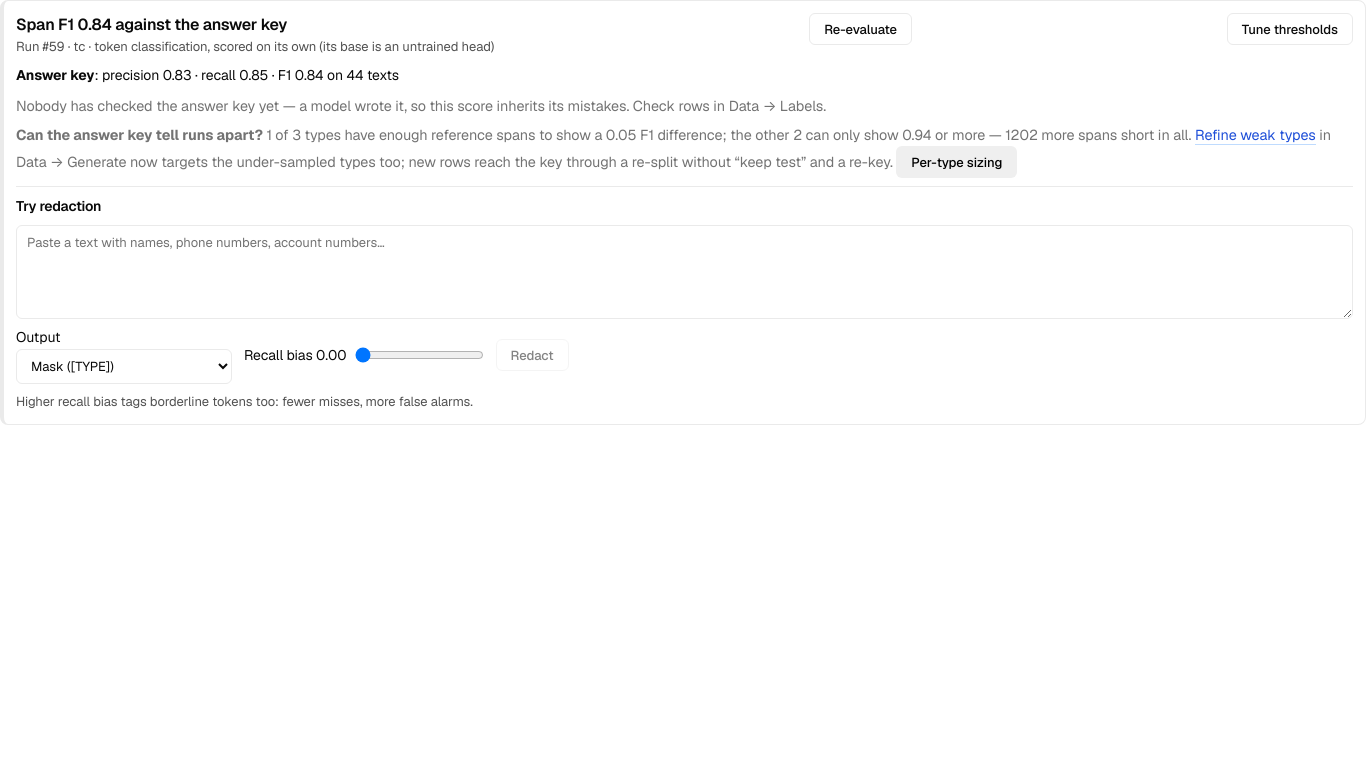
Test: EvalSummaryCard — answer-key sizing › says which types can show a 0.05 difference, with a per-type table and a refine link
The width and height of the screenshot is (1366, 768).
Check: the element with test id "eval-summary-span-sizing" shows "Can the answer key tell runs apart? 1 of 3 types have enough reference spans to show a 0.05 F1 difference; the other 2 can only show 0.94 or more — 1202 more sp", box [16,125,1353,178]
Click the button with test id "eval-summary-sizing-toggle".
click(957, 162)  # box [896,146,1017,178]
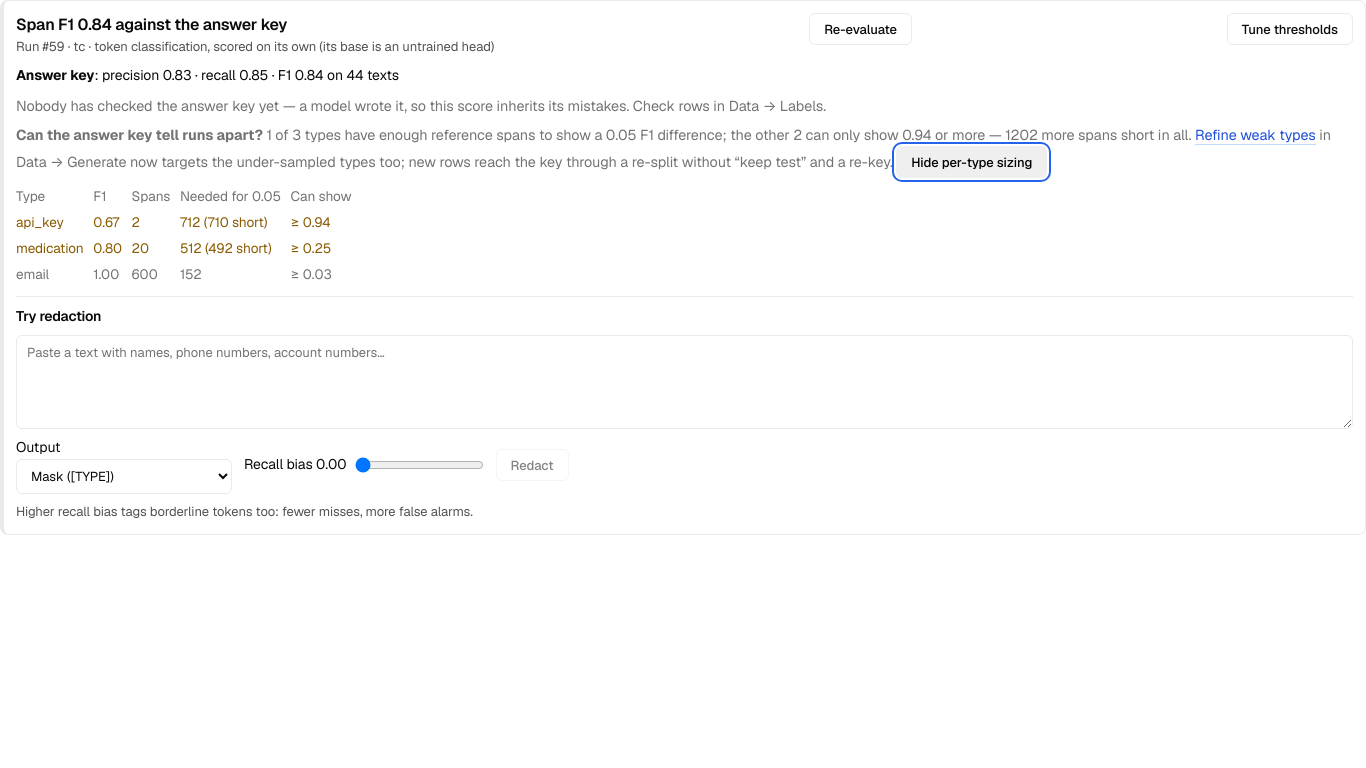
Check: the row with test id "eval-summary-sizing-api_key" reads "api_key 0.67 2 712 (710 short) ≥ 0.94", box [16,210,361,236]
Check: the row with test id "eval-summary-sizing-email" reads "email 1.00 600 152 ≥ 0.03", box [16,262,361,288]
